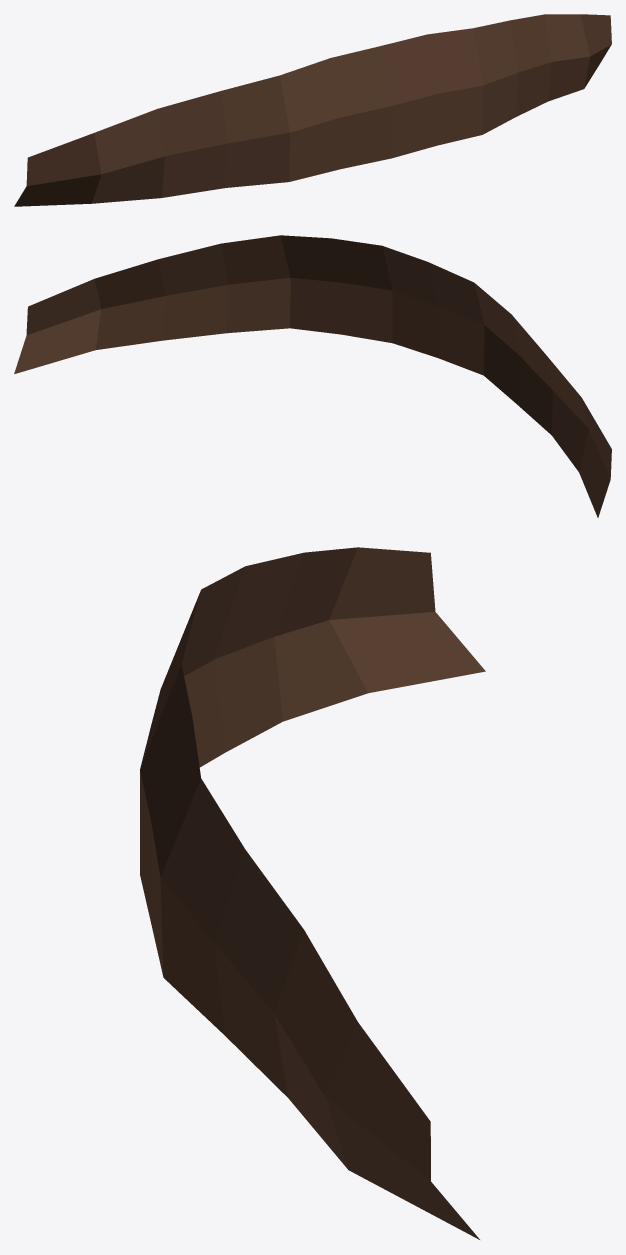
The model's file is labial_blocado.glb.
3 views of the same model, one above another, from view 1: azimuth 30°, elevation 25°; view 2: azimuth 150°, elevation 25°; view 3: azimuth 270°, elevation 25° (orthographic). The views are drawn at different scales.
Parts seen in each view (by area): view 1: R28_nariz_baixo_4mm_labial_blocado; view 2: R28_nariz_baixo_4mm_labial_blocado; view 3: R28_nariz_baixo_4mm_labial_blocado.
Boxes of the visible parts, x1,y1,x2,y2 form: R28_nariz_baixo_4mm_labial_blocado: [14, 14, 611, 206]; R28_nariz_baixo_4mm_labial_blocado: [14, 235, 611, 517]; R28_nariz_baixo_4mm_labial_blocado: [140, 547, 485, 1239].
Size of the model in its own units: 0.0746 by 0.0178 by 0.0191.
